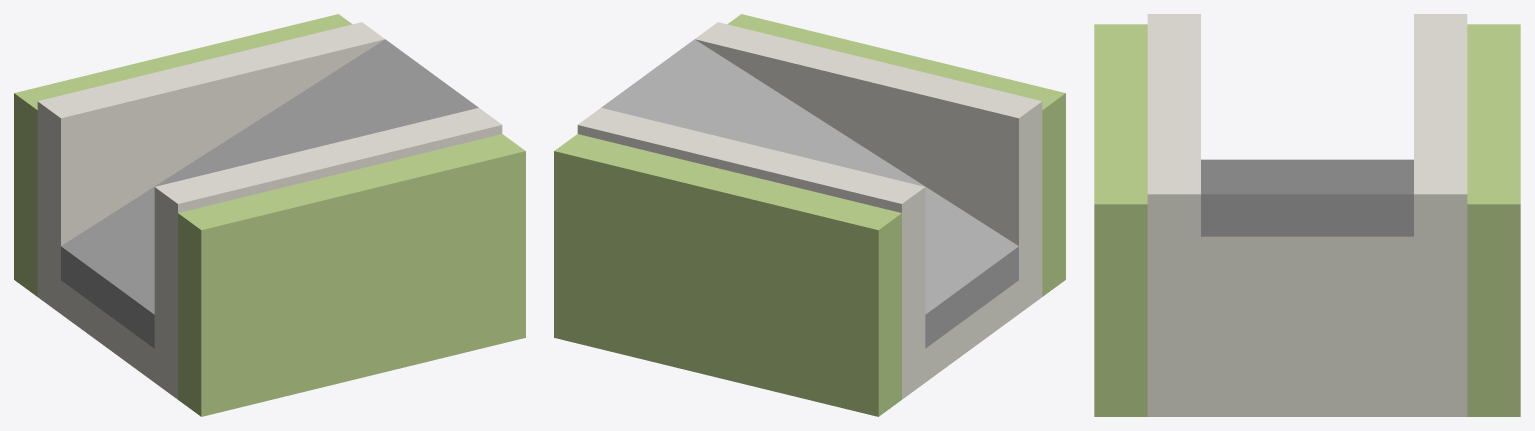
Rendered from tile024.gltf.
3 renders of one model, left to right at view 1: azimuth 30°, elevation 25°; view 2: azimuth 150°, elevation 25°; view 3: azimuth 270°, elevation 25°, orthographic. The views are drawn at different scales.
Parts seen in each view (by area): view 1: tile024; view 2: tile024; view 3: tile024.
Part boxes in pixels (bbox=[...]): tile024: bbox=[14, 14, 525, 416]; tile024: bbox=[554, 14, 1065, 416]; tile024: bbox=[1094, 14, 1520, 416].
Bounding box in the file's own units: 1 × 0.5767 × 1.
